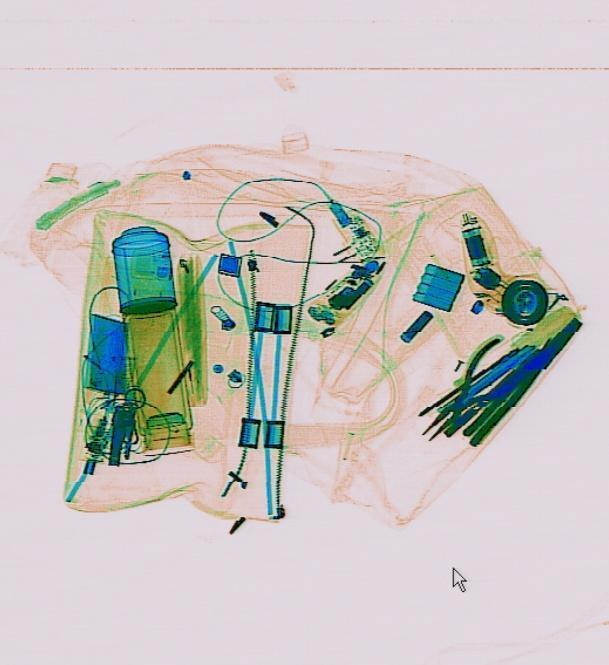Pliers: (405, 333, 531, 455)
